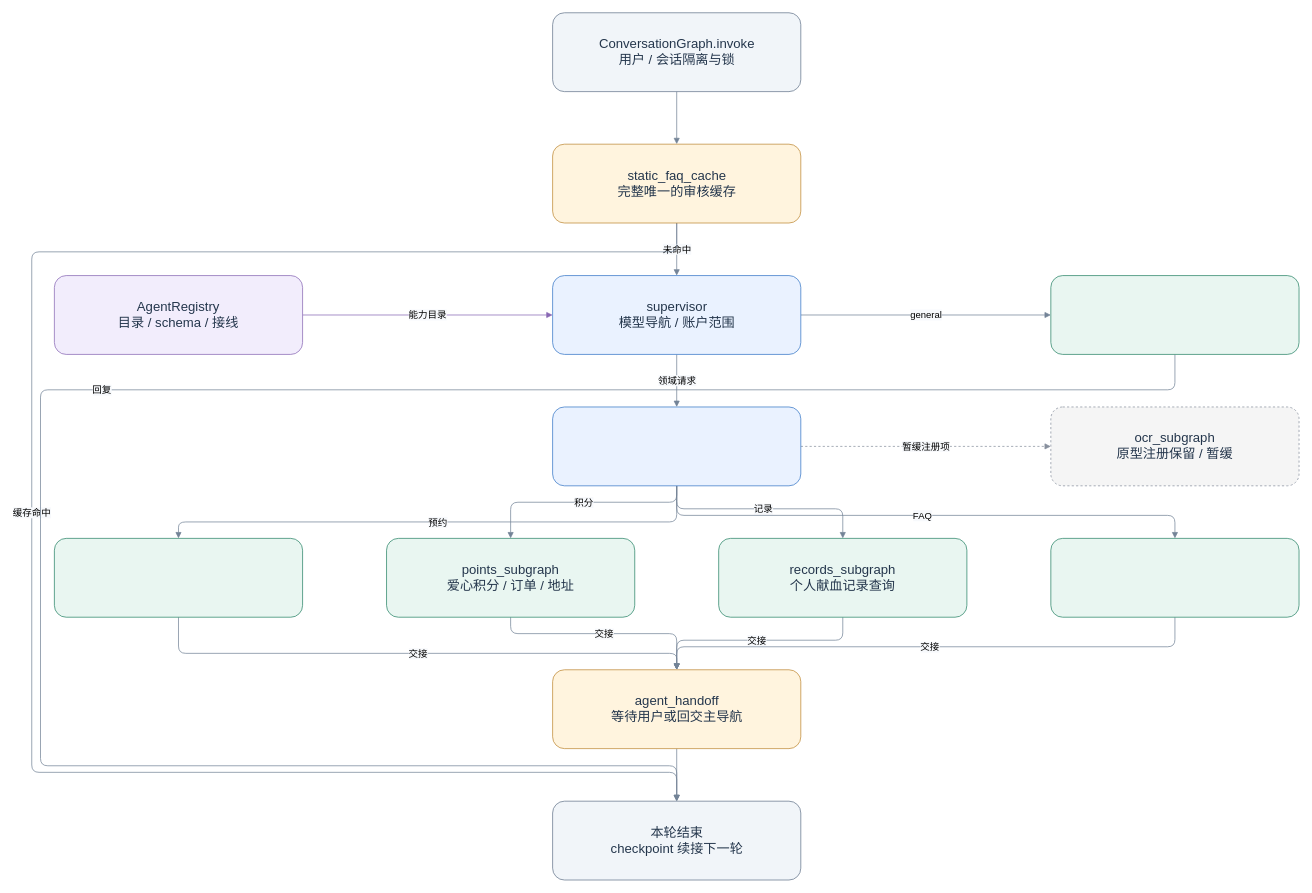
The diagram is 1312 pixels wide and 893 high, and some of its shapes have lost their labels. Here are the shapes that lost their labels. From the top down, the box of each, then its label:
(1050, 275, 1299, 354): general_reply 问候 / 范围拒绝
(552, 406, 801, 486): 领域派发关系 单任务直派 / 多任务队列 TaskCoordinator
(54, 538, 303, 617): appointment_subgraph 预约 / 查询 / 取消 / 签到
(1050, 538, 1299, 617): faq_subgraph 知识与业务组合只读问答
